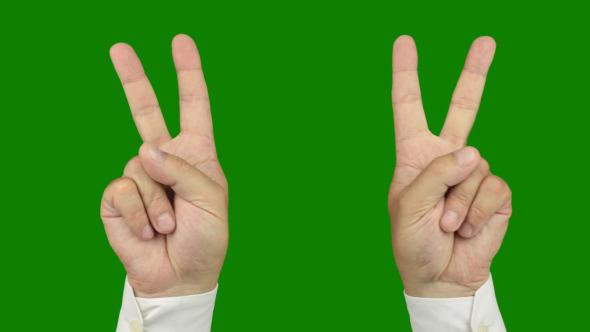peace_sign: (86, 28, 233, 286)
